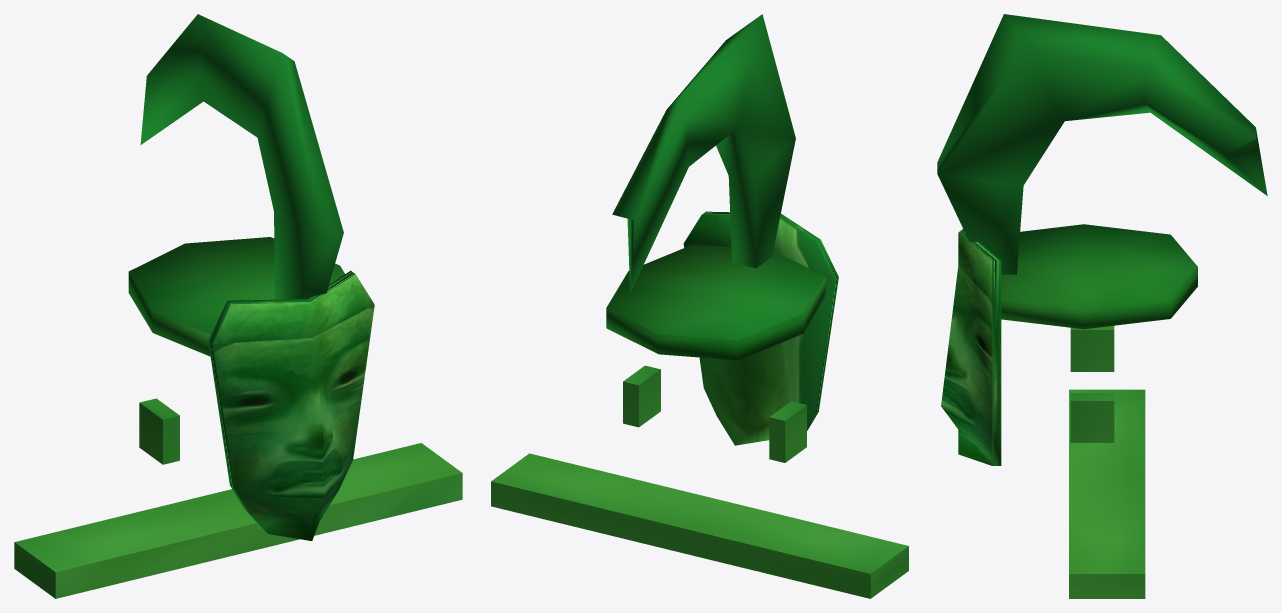
File: masc_olmec_1.dae
3 views of the same model, side by side, from view 1: azimuth 30°, elevation 25°; view 2: azimuth 150°, elevation 25°; view 3: azimuth 270°, elevation 25° (orthographic). The views are drawn at different scales.
Visible parts, largest first — view 1: olmec_masc_1; view 2: olmec_masc_1; view 3: olmec_masc_1.
Boxes of the visible parts, <box> form: olmec_masc_1: <box>14,14,462,598</box>; olmec_masc_1: <box>491,14,908,598</box>; olmec_masc_1: <box>937,14,1267,598</box>.
Bounding box in the file's own units: 1.03 × 0.7815 × 1.27.
